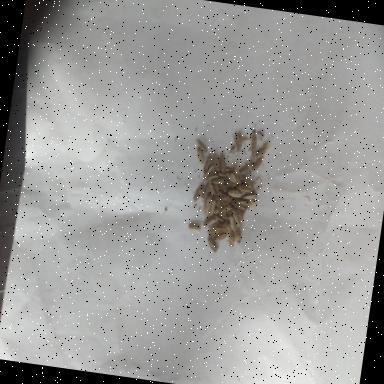pbw: (255, 142, 271, 160), (210, 150, 222, 172), (250, 154, 264, 172), (192, 184, 206, 202), (194, 147, 207, 166), (234, 221, 244, 244), (218, 204, 234, 218), (206, 237, 219, 254), (202, 192, 212, 214), (202, 163, 214, 181), (217, 151, 227, 172), (238, 162, 251, 178), (249, 133, 258, 156), (226, 188, 246, 198), (201, 182, 212, 200), (194, 138, 208, 152), (235, 184, 254, 194), (214, 220, 231, 231), (202, 215, 216, 228), (202, 156, 212, 174), (240, 192, 258, 202), (229, 206, 241, 221), (212, 174, 227, 186), (186, 222, 202, 233), (206, 180, 216, 197), (232, 167, 242, 184), (226, 215, 237, 230), (242, 175, 255, 187), (214, 231, 228, 242), (228, 228, 236, 247), (207, 200, 216, 216), (231, 199, 249, 207), (206, 172, 220, 182), (224, 180, 236, 190), (214, 172, 228, 178), (224, 166, 234, 174), (215, 216, 225, 224)
